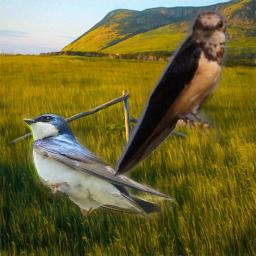Swallow: (113, 10, 228, 181), (23, 113, 175, 226)
